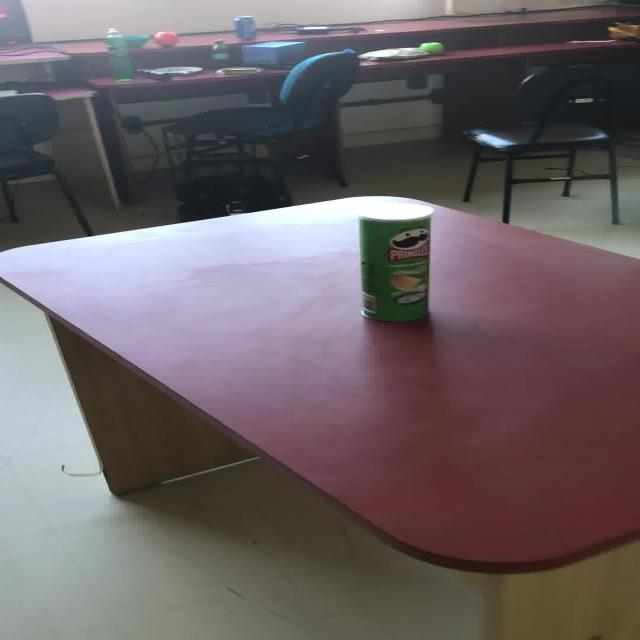pringles: (356, 202, 432, 321)
